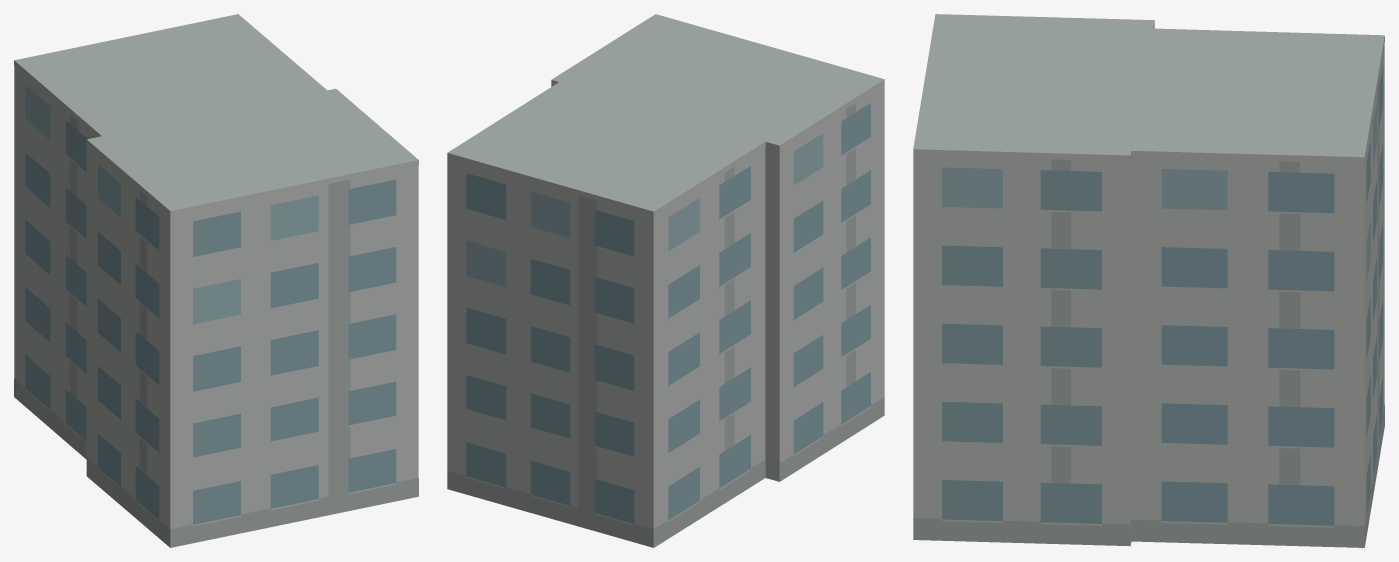
Rendered from survey-upis-32782641.glb.
The picture shows the model from 3 angles, left to right: view 1: azimuth 30°, elevation 25°; view 2: azimuth 150°, elevation 25°; view 3: azimuth 270°, elevation 25°; orthographic projection. The views are drawn at different scales.
Parts seen in each view (by area): view 1: survey-upis-32782641.tmp; view 2: survey-upis-32782641.tmp; view 3: survey-upis-32782641.tmp.
Boxes of the visible parts, x1,y1,x2,y2 form: survey-upis-32782641.tmp: [14, 14, 418, 547]; survey-upis-32782641.tmp: [447, 14, 884, 547]; survey-upis-32782641.tmp: [913, 14, 1384, 547].
Bounding box in the file's own units: 11.96 × 15.2 × 16.64.
